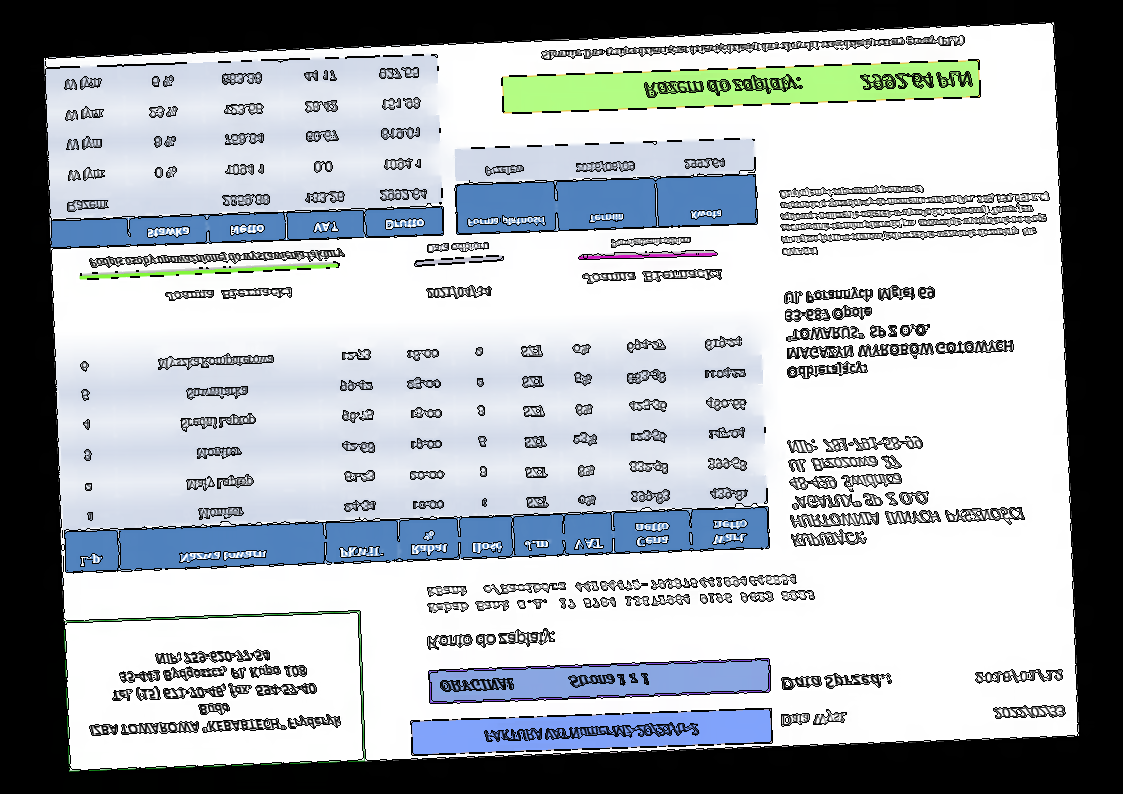Table: (56, 323, 770, 574), (45, 54, 446, 250), (453, 137, 758, 235)
TextBox: (785, 430, 1027, 550), (85, 643, 344, 739), (782, 279, 1016, 381), (778, 178, 1053, 260), (425, 570, 818, 616), (539, 33, 967, 63), (642, 66, 974, 101), (87, 247, 344, 271), (483, 719, 702, 745), (438, 671, 653, 696), (425, 626, 558, 653), (580, 266, 724, 286), (780, 669, 892, 694), (164, 285, 294, 304), (972, 667, 1065, 687), (778, 709, 853, 729), (990, 703, 1068, 722), (424, 281, 493, 302), (610, 235, 693, 249), (424, 240, 489, 255)
